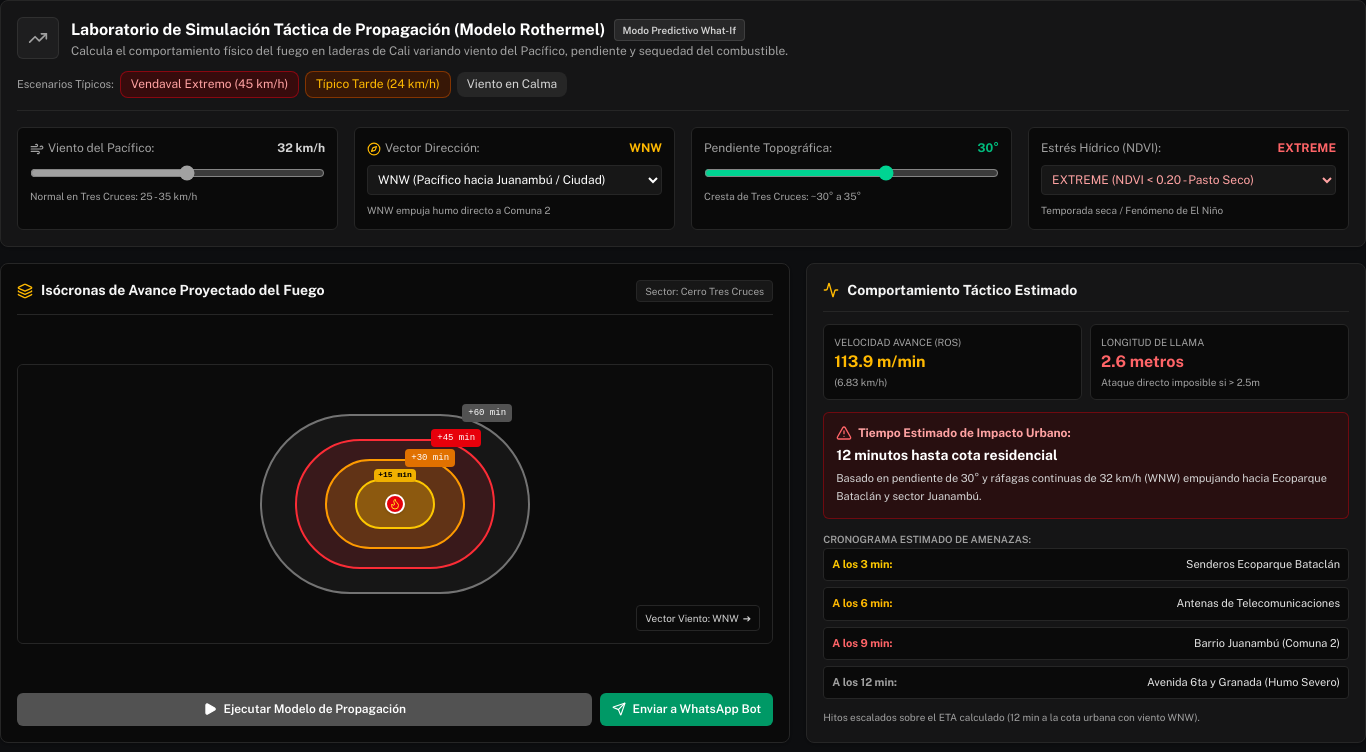
Test: FireSpreadSimulator › si /api/alerts rechaza (rate limit 429) muestra el error en vez de éxito
Click the button "Enviar a WhatsApp Bot".
click(687, 709)  # box [600,693,773,726]
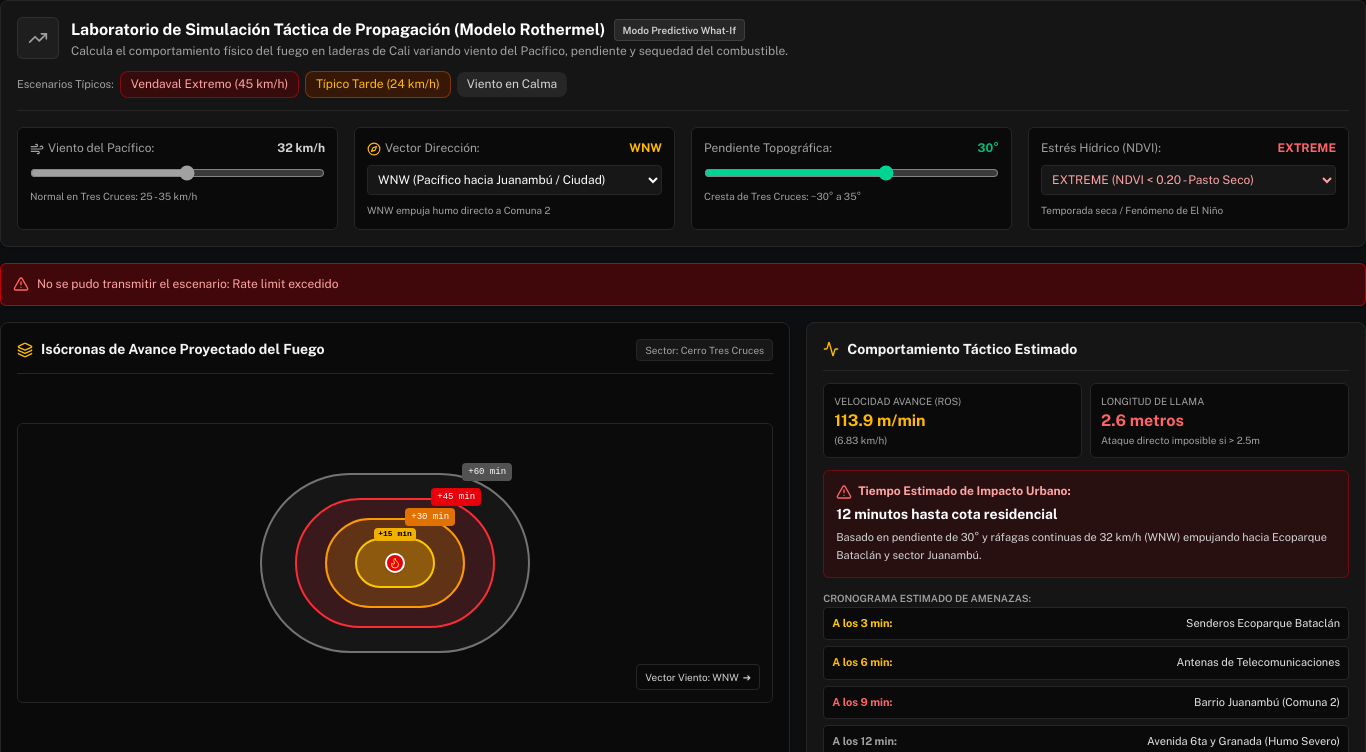
Expected: the message shows "Rate limit excedido", [37,277,338,291]
